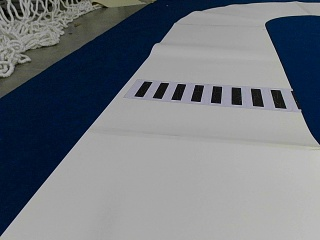crosswalk: (133, 81, 288, 109)
